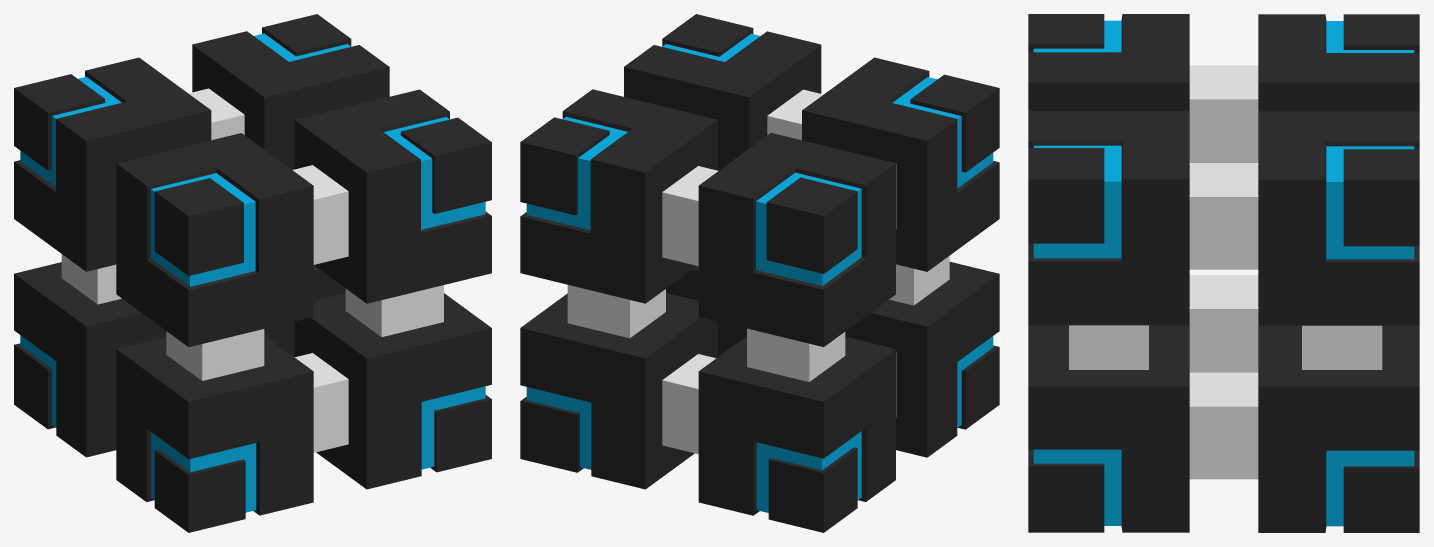
The model's file is cube_invert.fbx.
The picture shows the model from 3 angles, left to right: view 1: azimuth 30°, elevation 25°; view 2: azimuth 150°, elevation 25°; view 3: azimuth 270°, elevation 25°; orthographic projection. The views are drawn at different scales.
Visible parts, largest first — view 1: pCube53; view 2: pCube53; view 3: pCube53.
Boxes of the visible parts, x1=… form: pCube53: x1=14, y1=14, x2=491, y2=532; pCube53: x1=520, y1=14, x2=999, y2=532; pCube53: x1=1028, y1=14, x2=1419, y2=532.
Size of the model in its own units: 826 by 823 by 825.
